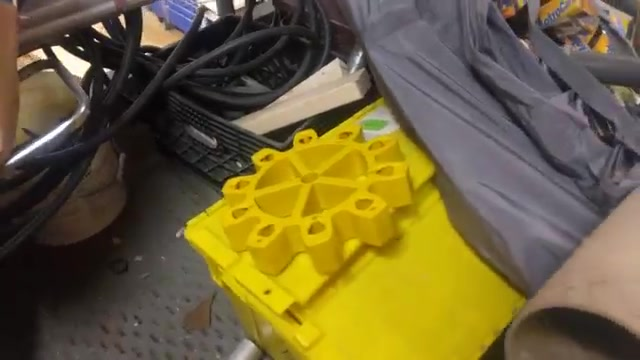gear: (227, 110, 416, 275)
